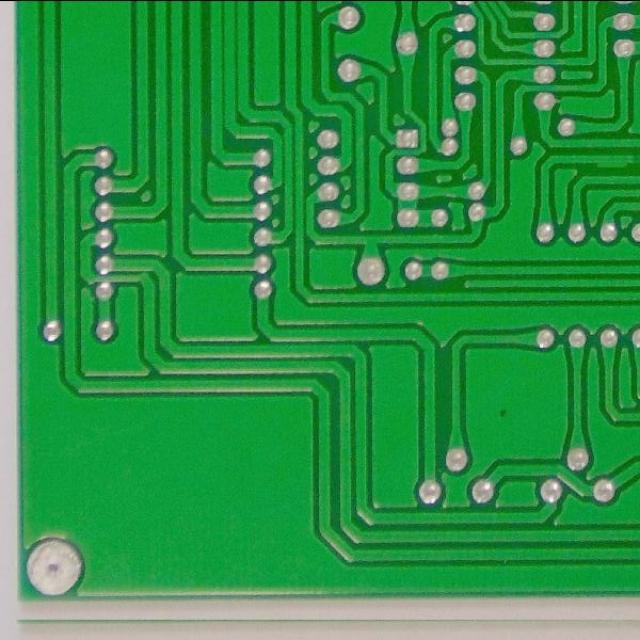Spur: (592, 148, 634, 172)
